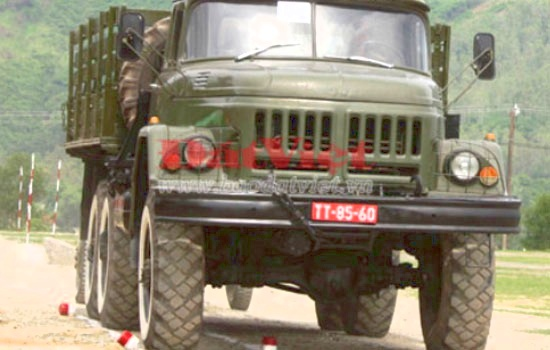plate: (310, 196, 379, 228)
